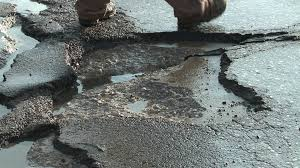pothole: (1, 38, 300, 128), (1, 128, 104, 166), (1, 1, 74, 36)
